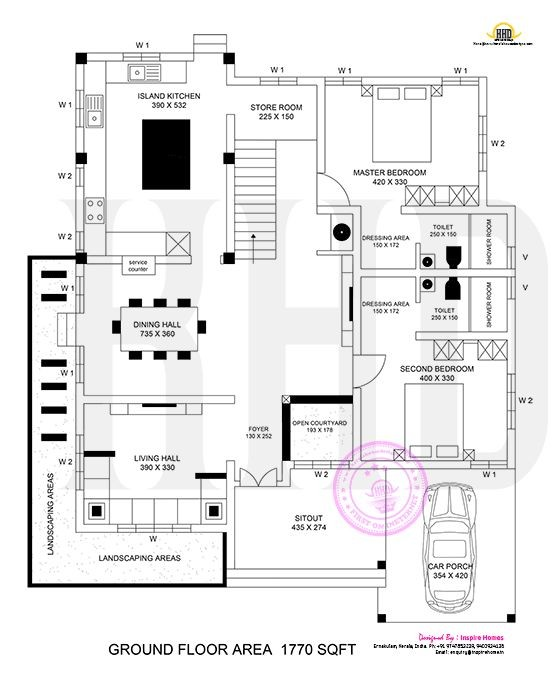door: (314, 165, 359, 213), (351, 351, 395, 389), (237, 457, 283, 493)
wall: (24, 253, 35, 589), (64, 395, 238, 409), (28, 578, 230, 590), (278, 391, 356, 410), (279, 391, 295, 461), (21, 251, 81, 267), (218, 533, 226, 587)
window: (114, 518, 191, 541), (473, 112, 496, 172), (250, 72, 305, 93), (122, 43, 163, 69), (504, 377, 524, 430), (71, 433, 88, 490), (439, 71, 479, 94), (325, 68, 363, 92), (72, 343, 91, 383), (504, 247, 521, 291), (72, 276, 91, 312), (468, 453, 504, 471), (69, 160, 89, 191), (74, 90, 86, 130)
